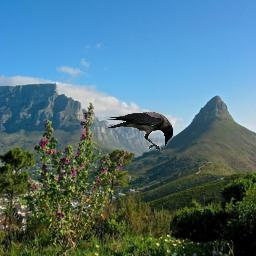Crow: (105, 111, 173, 151)
